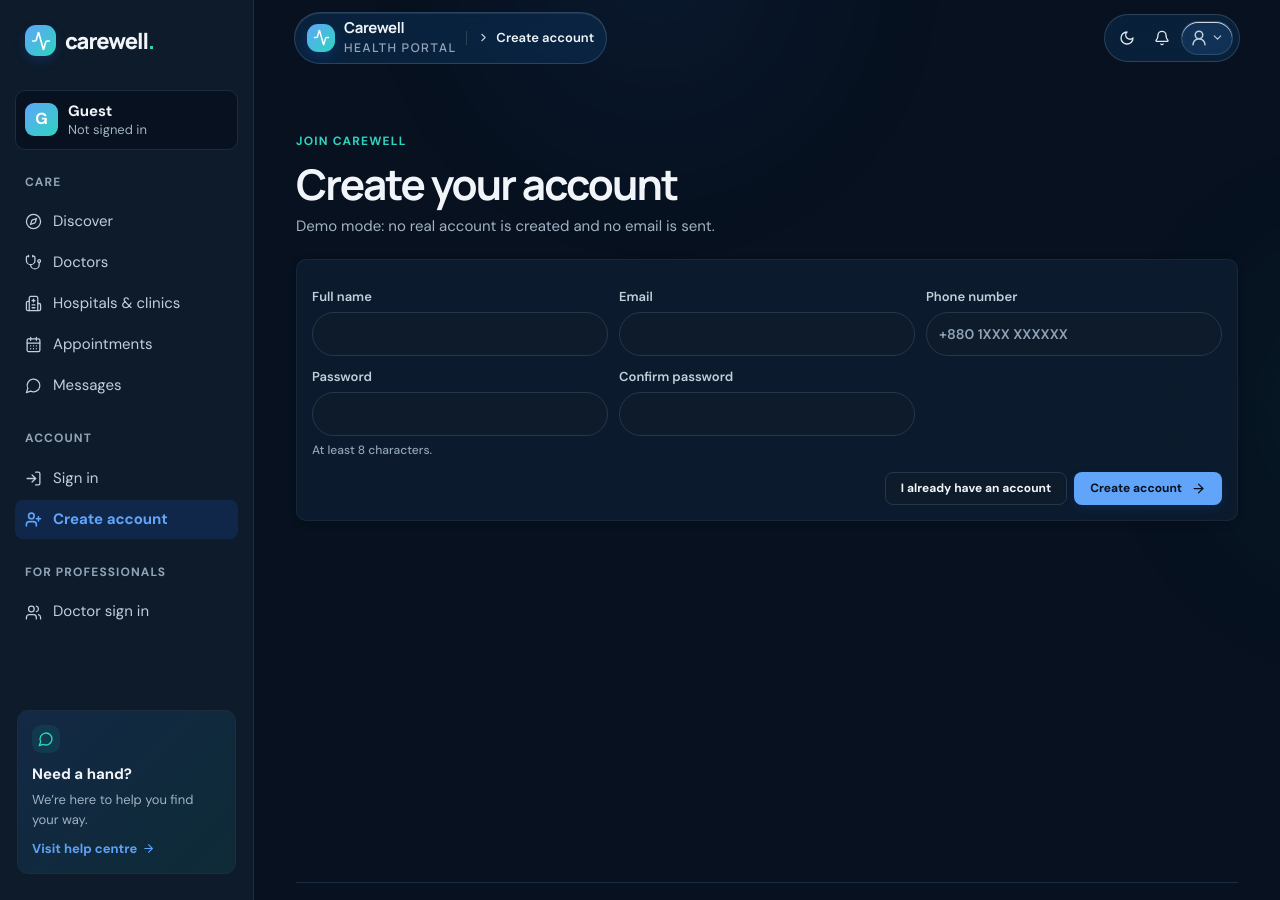
Test case: sign-up and email verification › validates the sign-up form
Type "N" into the field labelled "Full name" at (460, 334), box [312, 312, 608, 356]
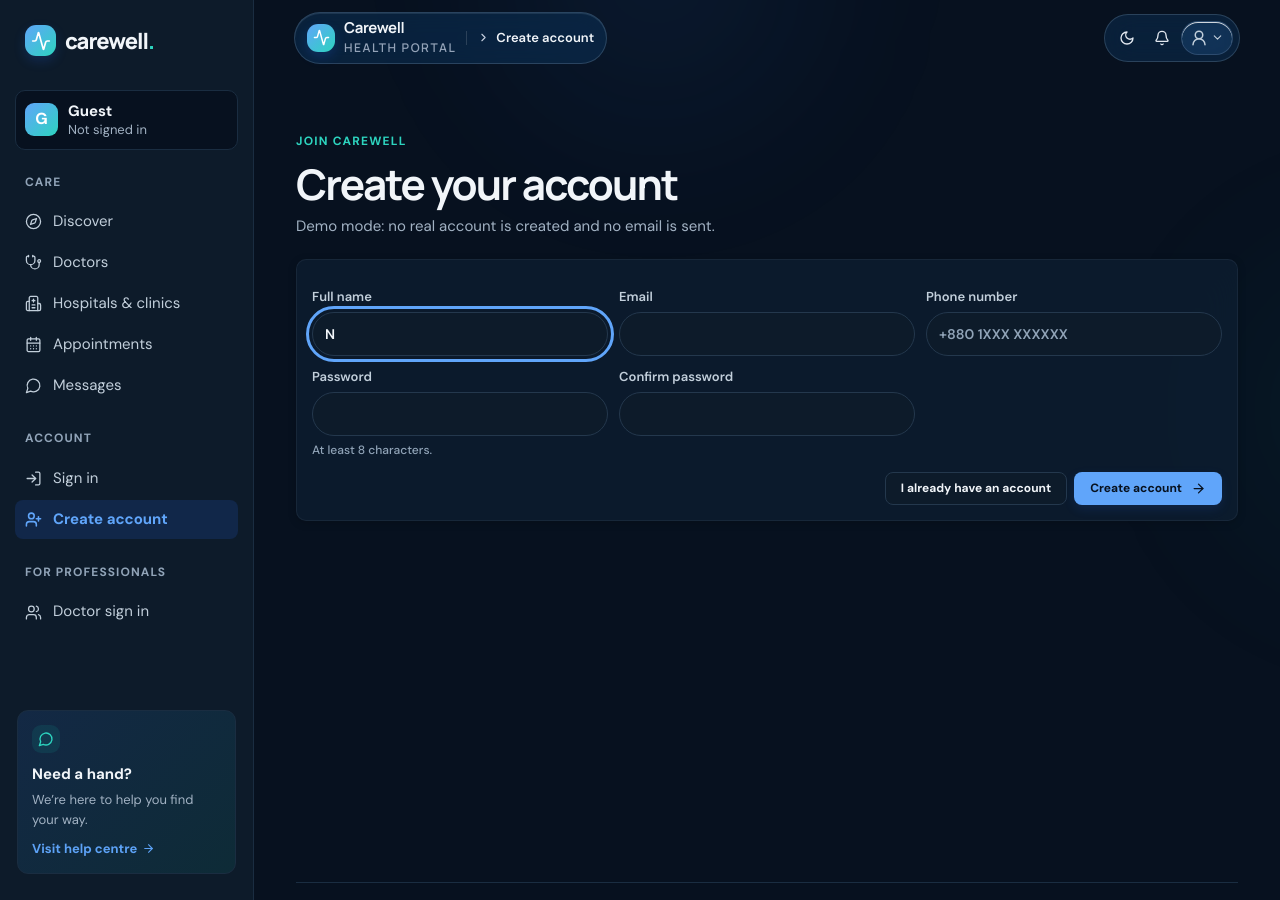
Type "short" into the password field labelled "Password At least 8 characters." at (460, 414), box [312, 392, 608, 436]
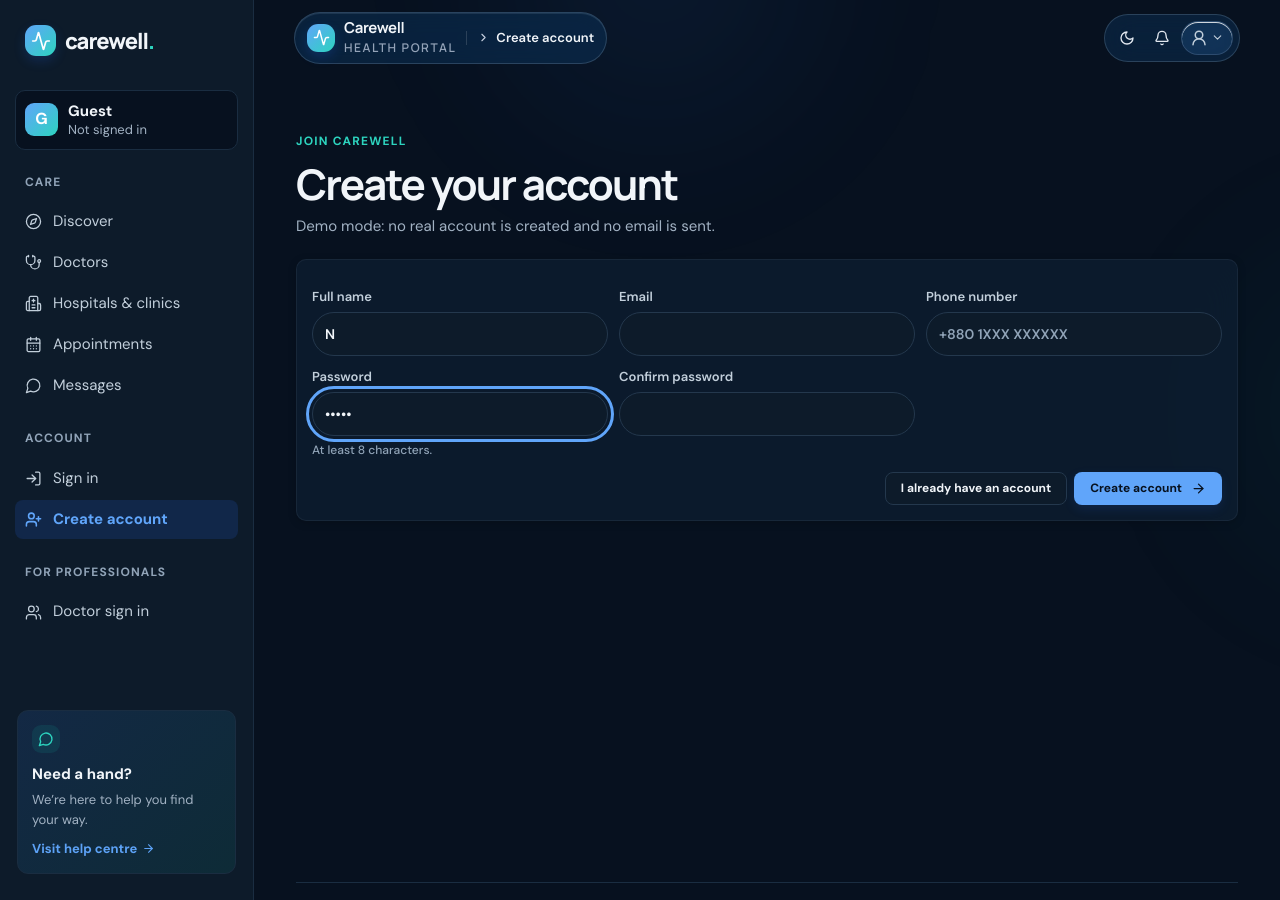
Type "different" into the password field labelled "Confirm password" at (767, 414), box [619, 392, 915, 436]
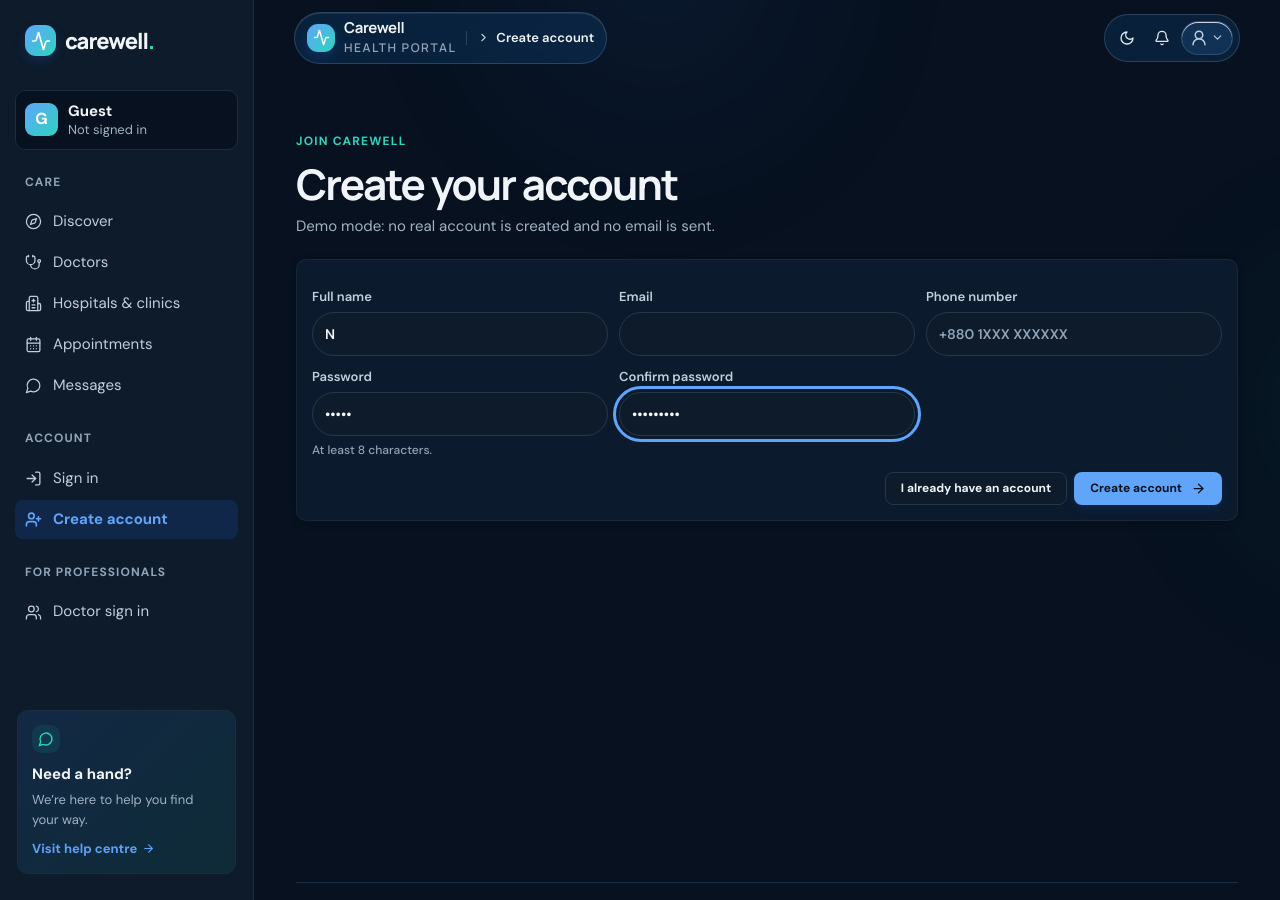
Click the button "Create account" at (1148, 488), box [1074, 472, 1222, 505]
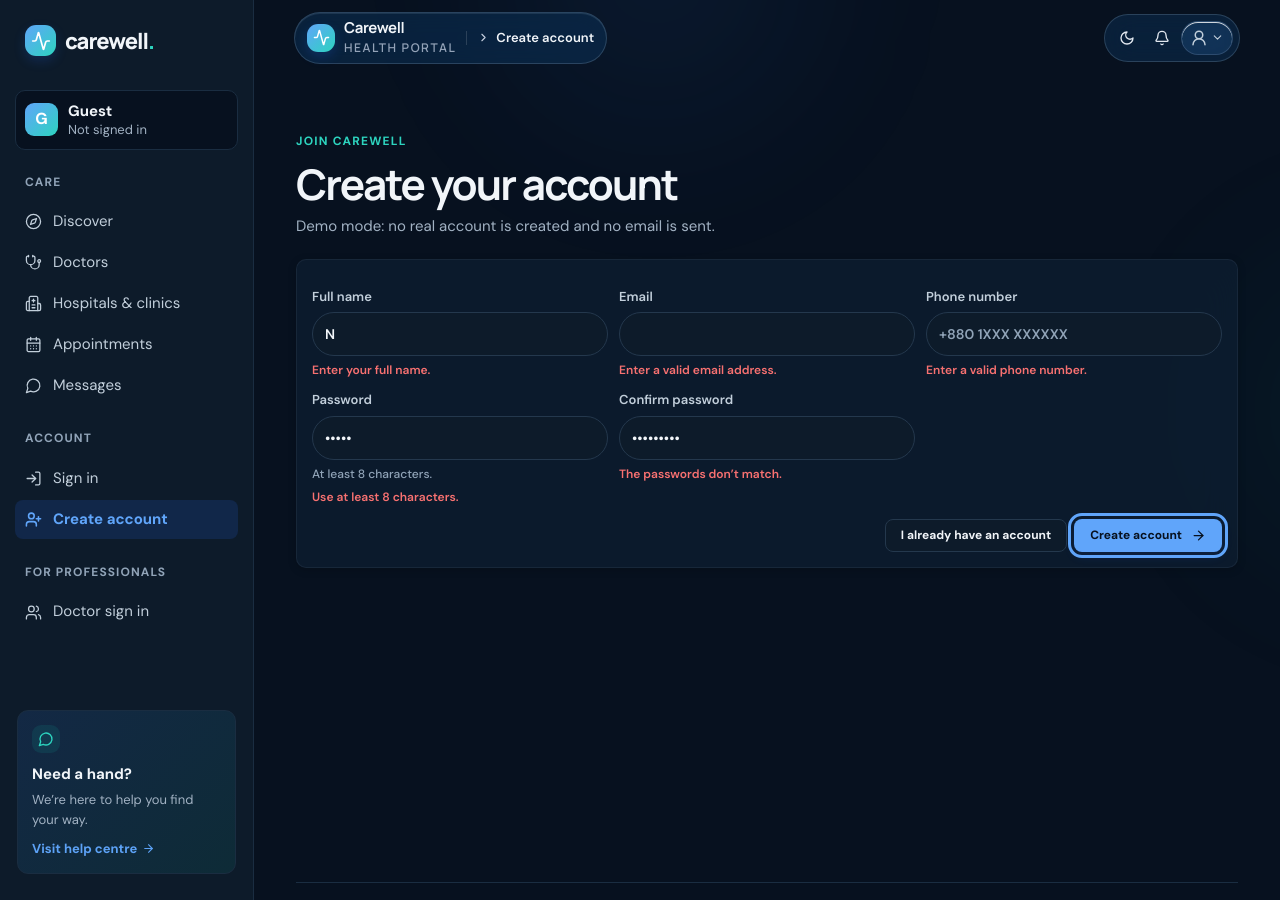
Now the text "Enter your full name." is shown, box [312, 362, 430, 378]
Now the text "Enter a valid email address." is shown, box [619, 362, 776, 378]
Now the text "Use at least 8 characters." is shown, box [312, 489, 459, 505]
